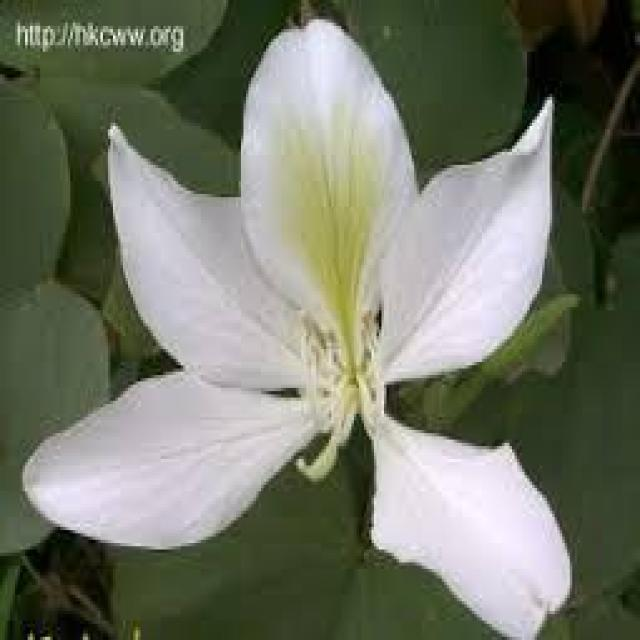organic waste: (50, 29, 592, 630)
